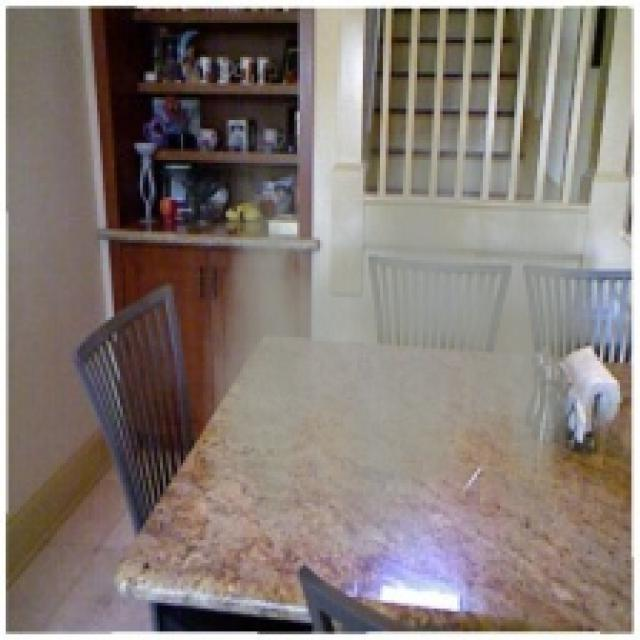smoke: (203, 134, 597, 557)
